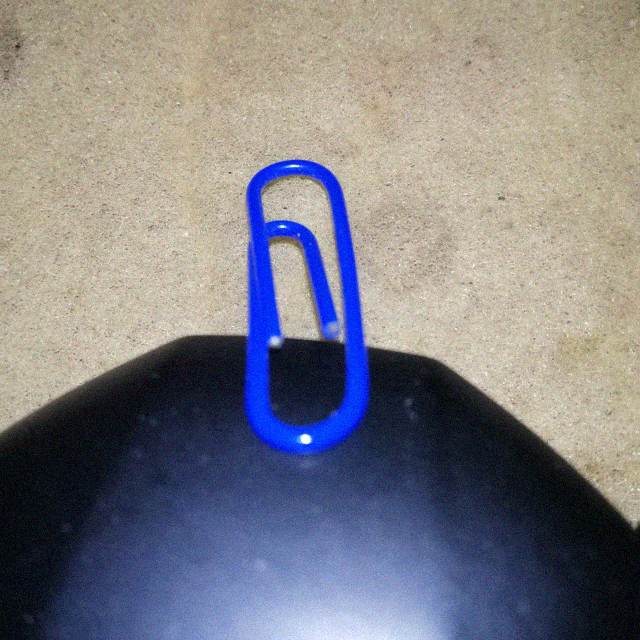pin: (240, 151, 371, 450)
